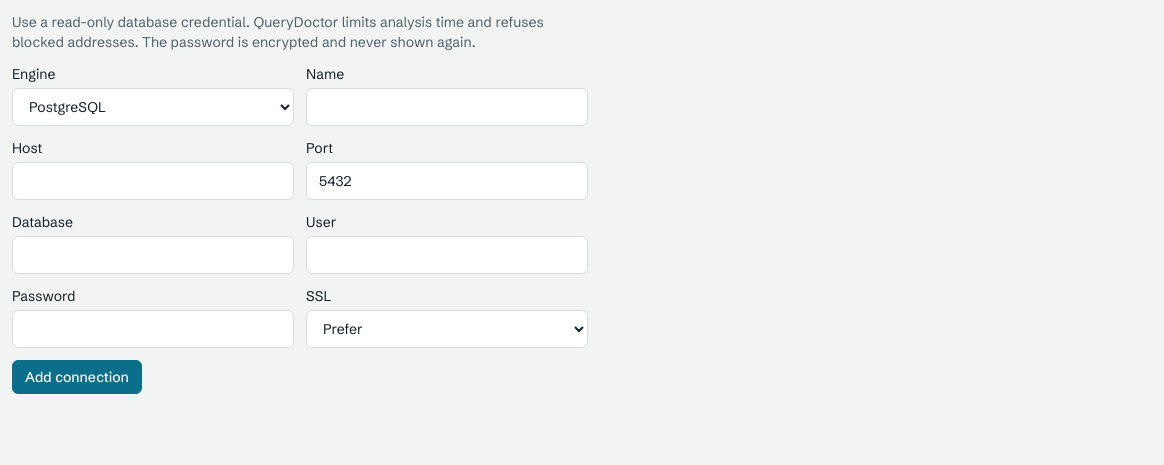
Scenario: ConnectionsPanel › shows the server's reason when a host is refused and keeps the form usable
Expected: the button "Add connection" is shown, [12,360,142,394]
Type "Prod replica" into the field labelled "Name".
click(447, 107); type("Prod replica")  # box [306,88,588,126]
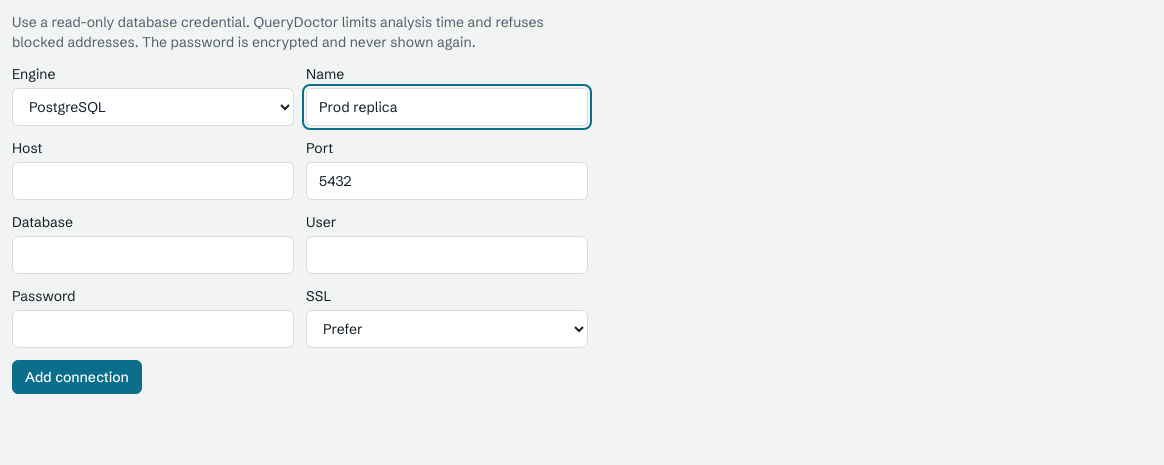
Type "db.example.com" into the field labelled "Host".
click(153, 181); type("db.example.com")  # box [12,162,294,200]
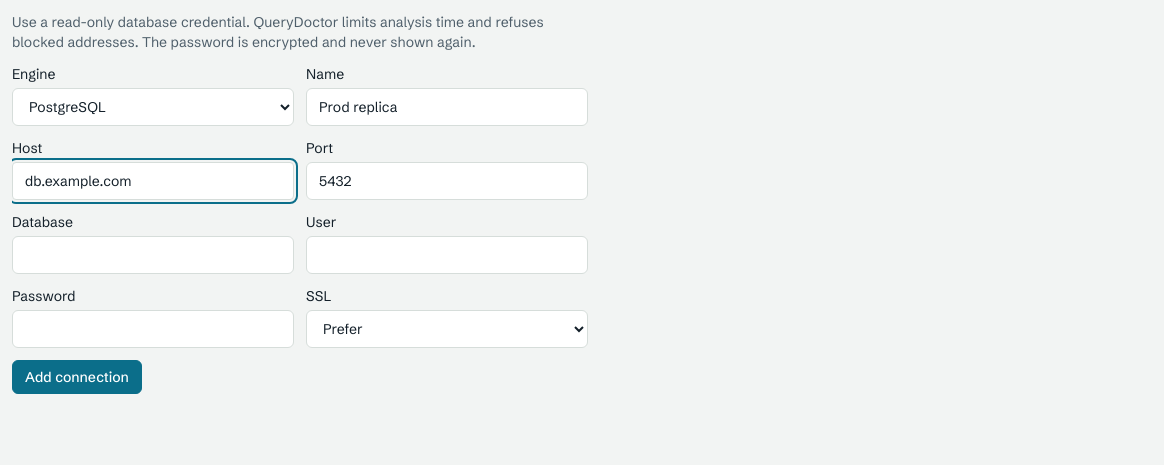
Type "shop" into the field labelled "Database".
click(153, 255); type("shop")  # box [12,236,294,274]
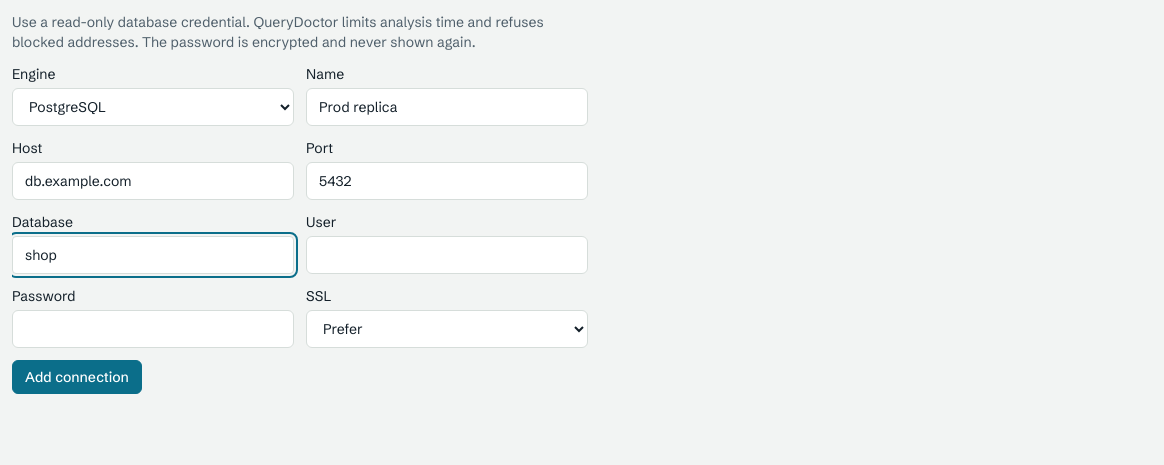
Type "reader" into the field labelled "User".
click(447, 255); type("reader")  # box [306,236,588,274]
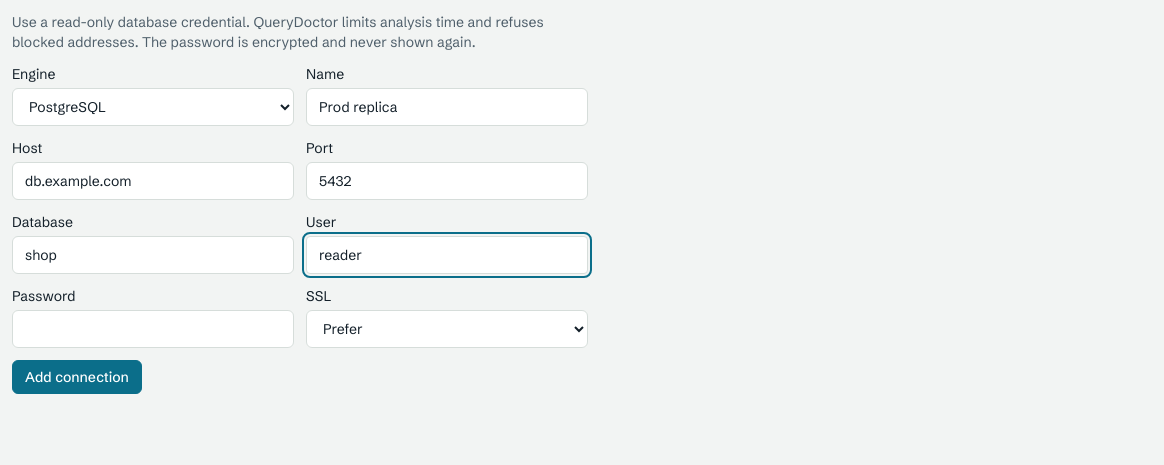
Type "Sup3r-S3cret-pw" into the password field labelled "Password".
click(153, 329); type("Sup3r-S3cret-pw")  # box [12,310,294,348]
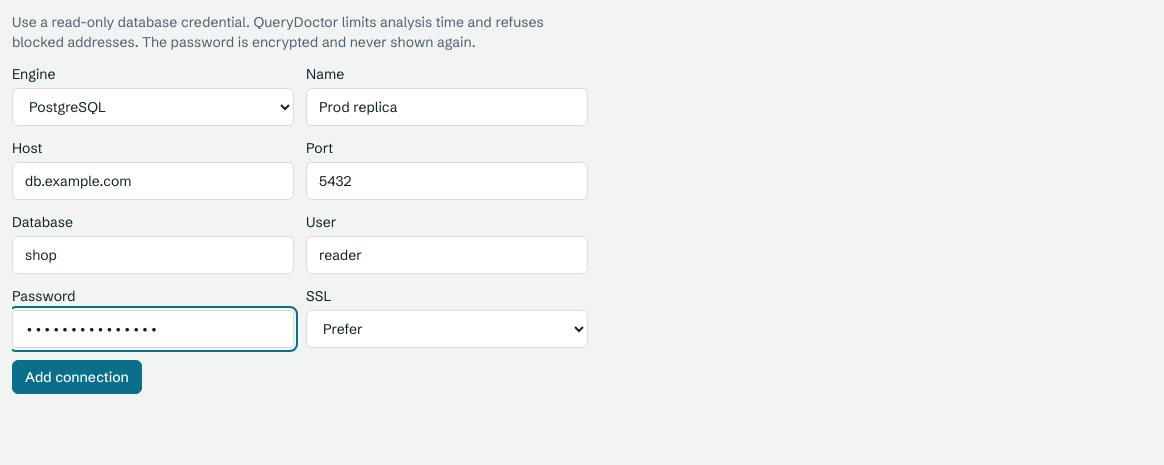
Click the button "Add connection".
click(77, 377)  # box [12,360,142,394]
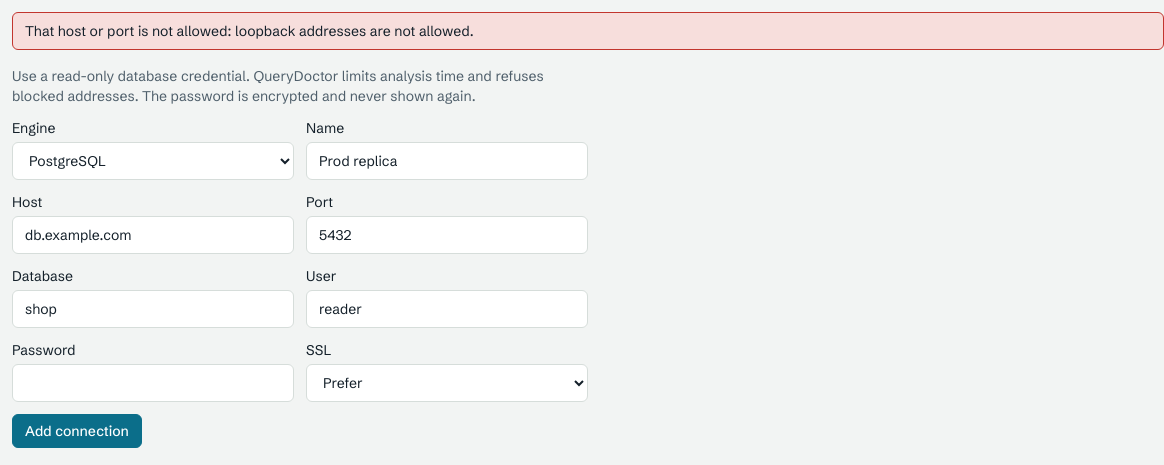
Expected: the button "Add connection" is enabled, [12,414,142,448]
Expected: the message shows "loopback addresses are not allowed", [25,22,474,40]
